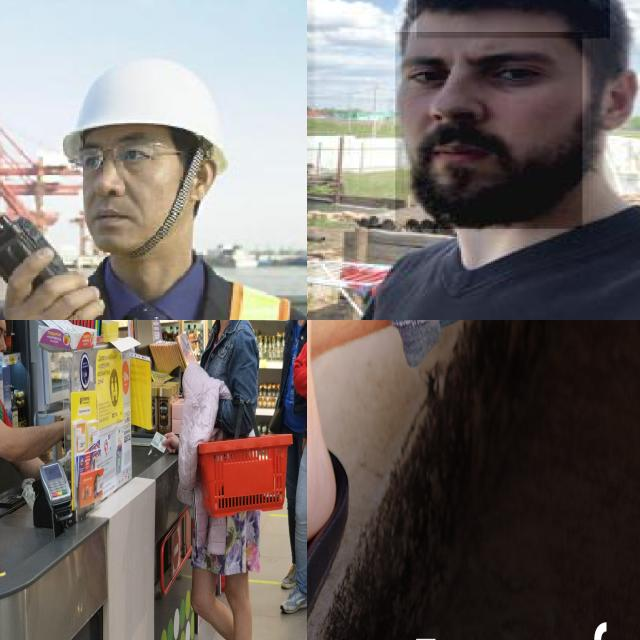No_Ear-Protection: (585, 53, 640, 141), (190, 160, 216, 203)
No_Glasses: (388, 37, 571, 110)
Sandals: (307, 320, 380, 640)
face_nomask: (396, 32, 582, 229), (83, 176, 177, 254)
glasses: (76, 143, 181, 173)
hand_noglove: (3, 249, 103, 320)
head_helmet: (62, 59, 228, 173)
head_nohelmet: (416, 0, 610, 38)
person: (314, 0, 640, 320)
